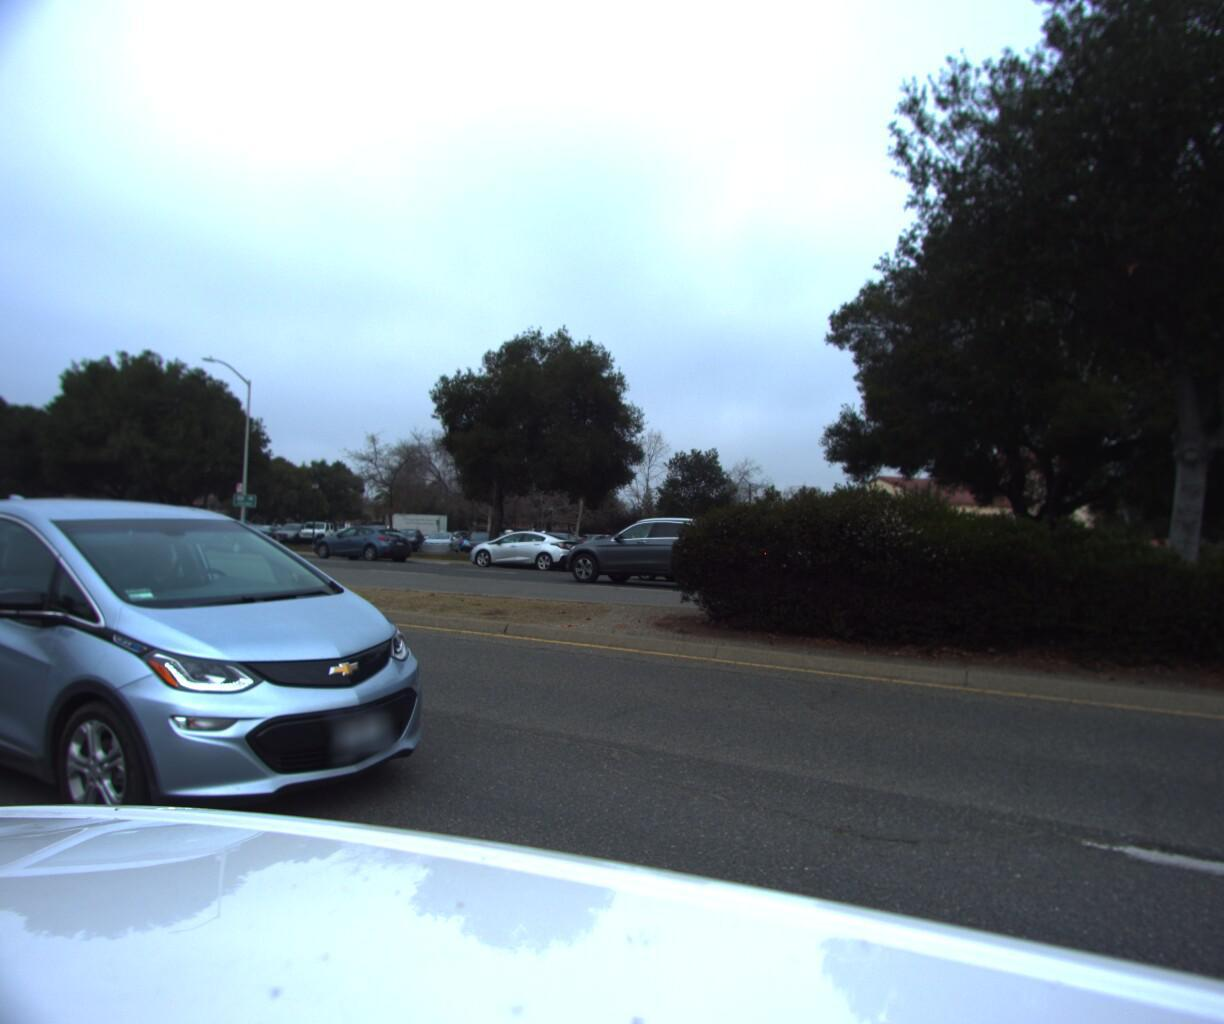car: (559, 513, 753, 592), (452, 526, 590, 573), (299, 524, 415, 565), (182, 522, 282, 557)
